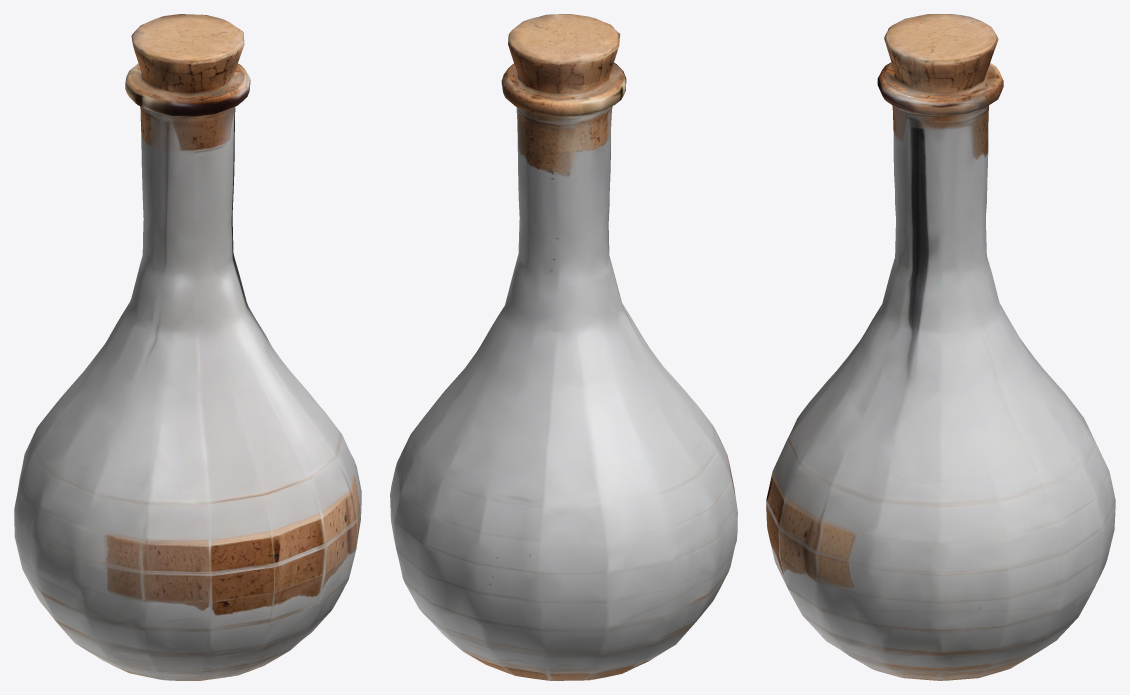
The picture shows the model from 3 angles, left to right: view 1: azimuth 30°, elevation 25°; view 2: azimuth 150°, elevation 25°; view 3: azimuth 270°, elevation 25°; orthographic projection.
Visible parts, largest first — view 1: Mesh1.0; view 2: Mesh1.0; view 3: Mesh1.0.
Boxes of the visible parts, box(x1,y1,x2,y2) form: Mesh1.0: box(14, 14, 361, 680); Mesh1.0: box(390, 14, 737, 680); Mesh1.0: box(766, 14, 1115, 680).
Bounding box in the file's own units: 104 × 201 × 103.
1 material, 1 textured.
